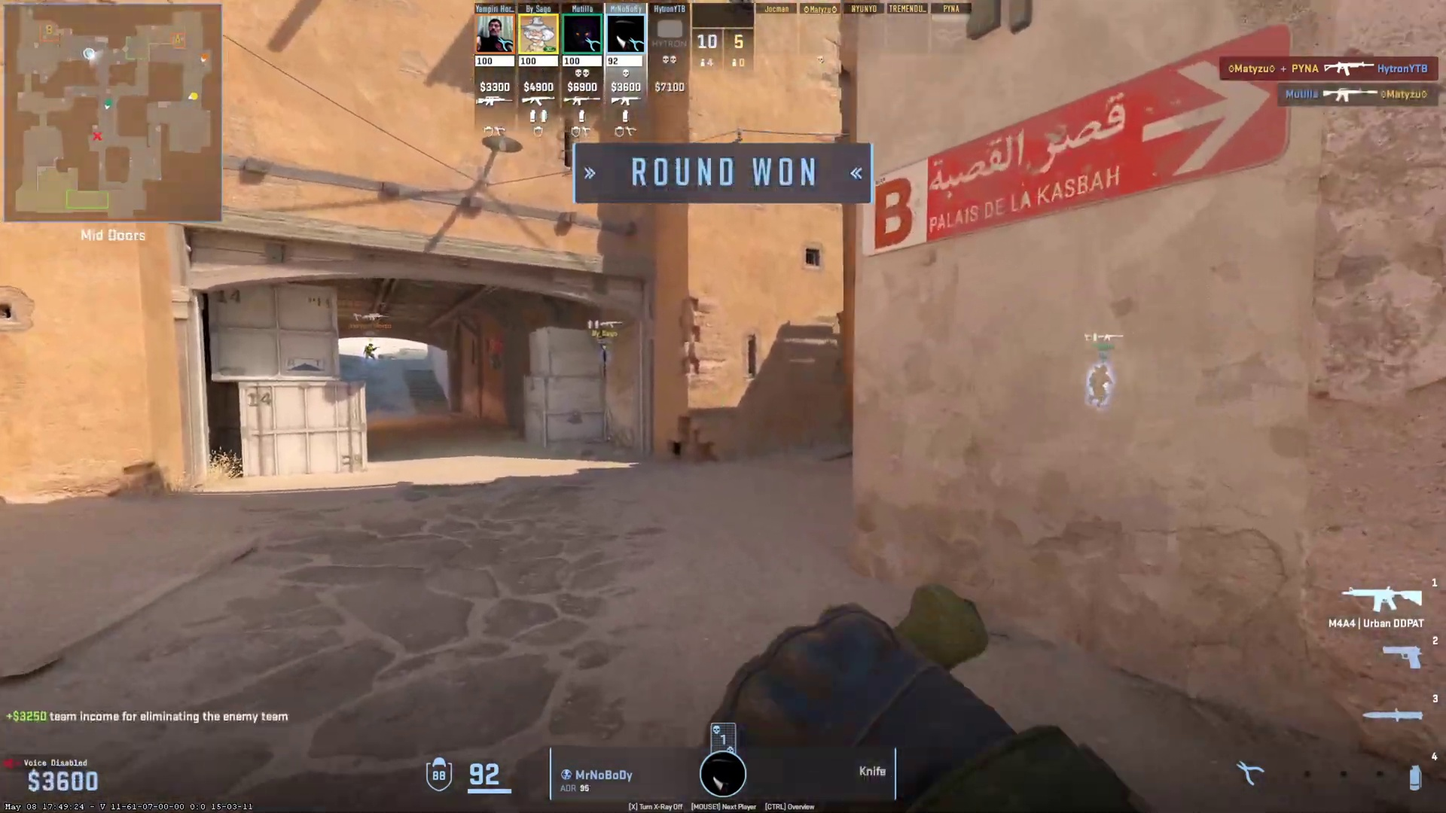CT: (363, 343, 378, 362)
